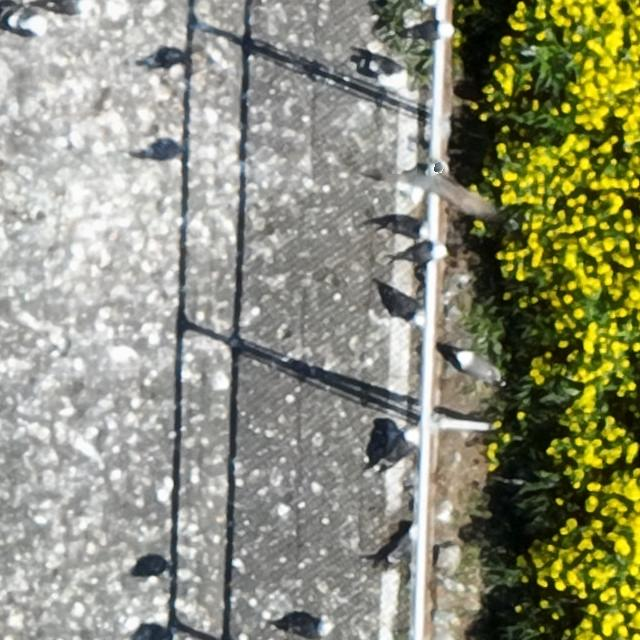umineko: (375, 424, 417, 475), (382, 282, 426, 328), (364, 52, 410, 92), (2, 9, 52, 37), (409, 15, 455, 44), (392, 524, 422, 568), (458, 354, 498, 382), (401, 241, 444, 263), (284, 617, 328, 637)
